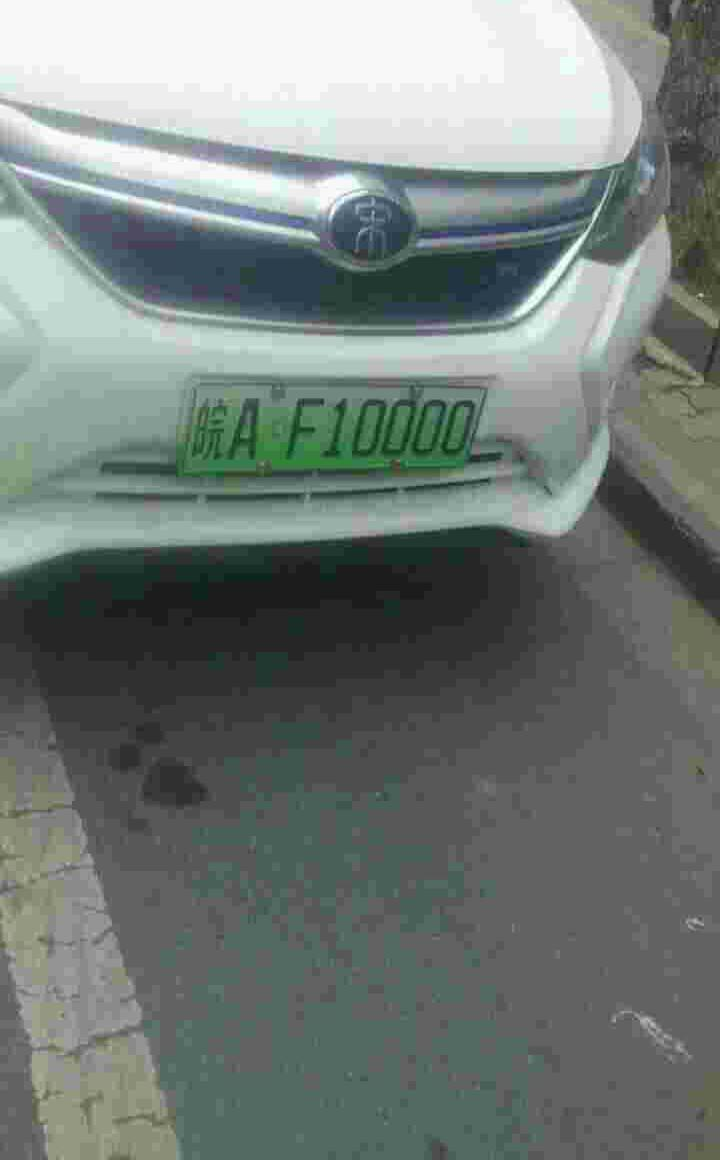car: (178, 371, 493, 477)
